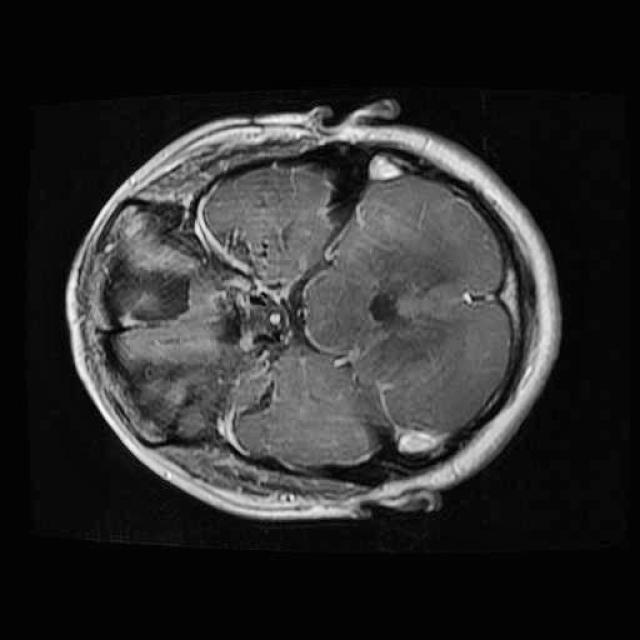Tumor: (89, 182, 245, 346)
